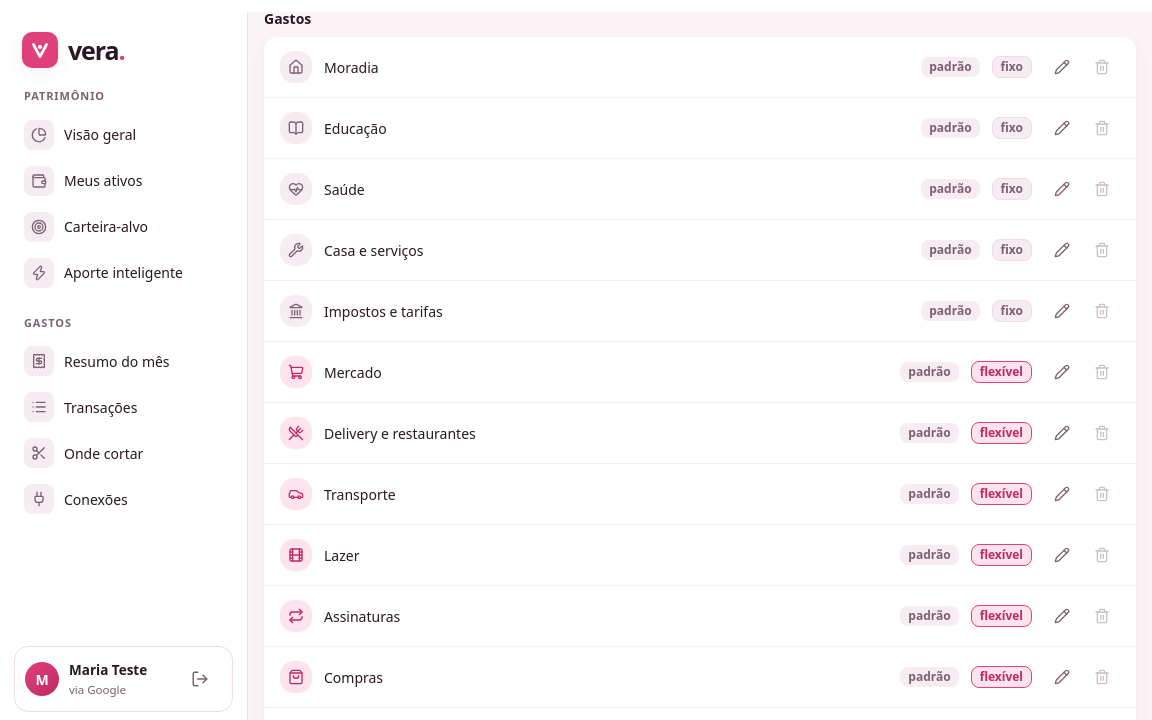
RulesPage: categorias › nome vazio não é enviado
The image size is (1152, 720).
(page scrolled)
Click the button named "Renomear Mercado" at (1062, 372), box [1044,354,1080,390]
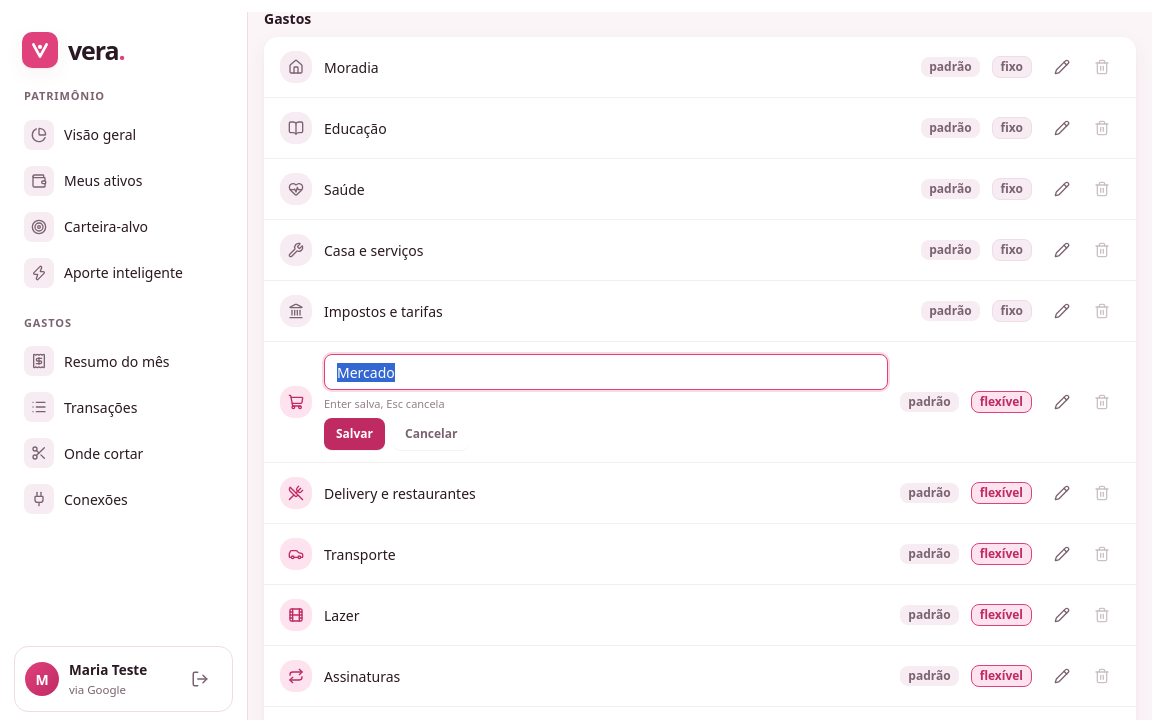
Clear the field named "Nome da categoria Mercado" at (606, 372), box [324,354,888,390]
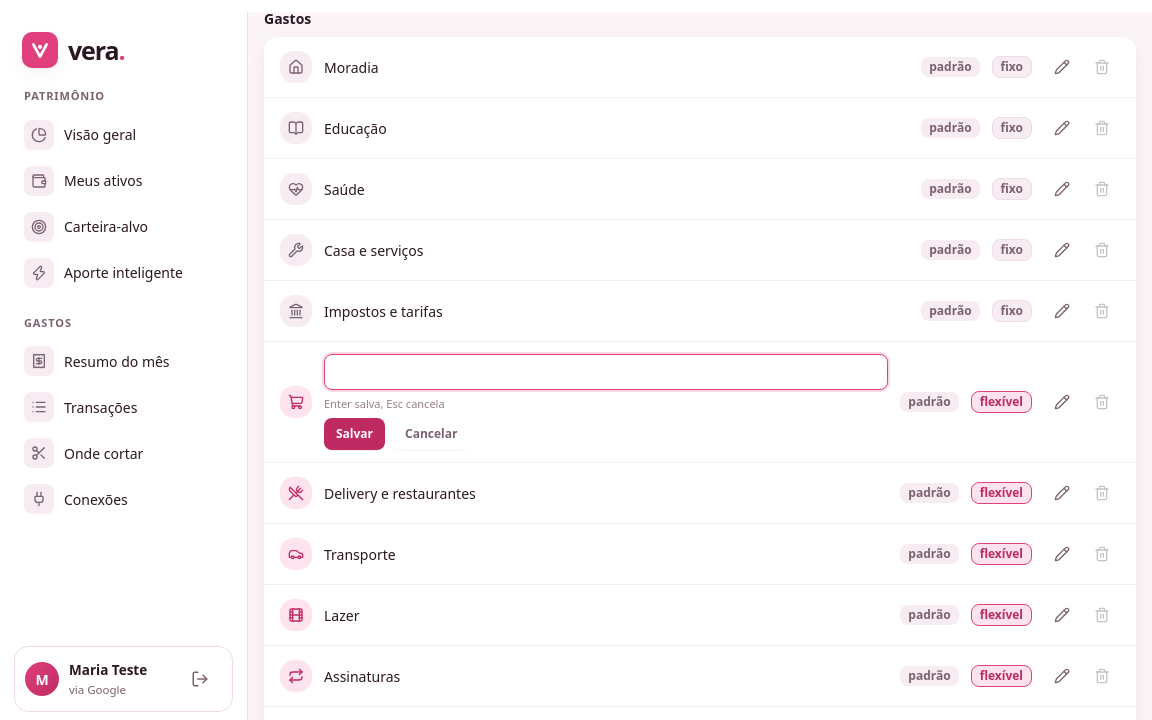
Click the button "Salvar" at (354, 434), box [324,418,385,450]
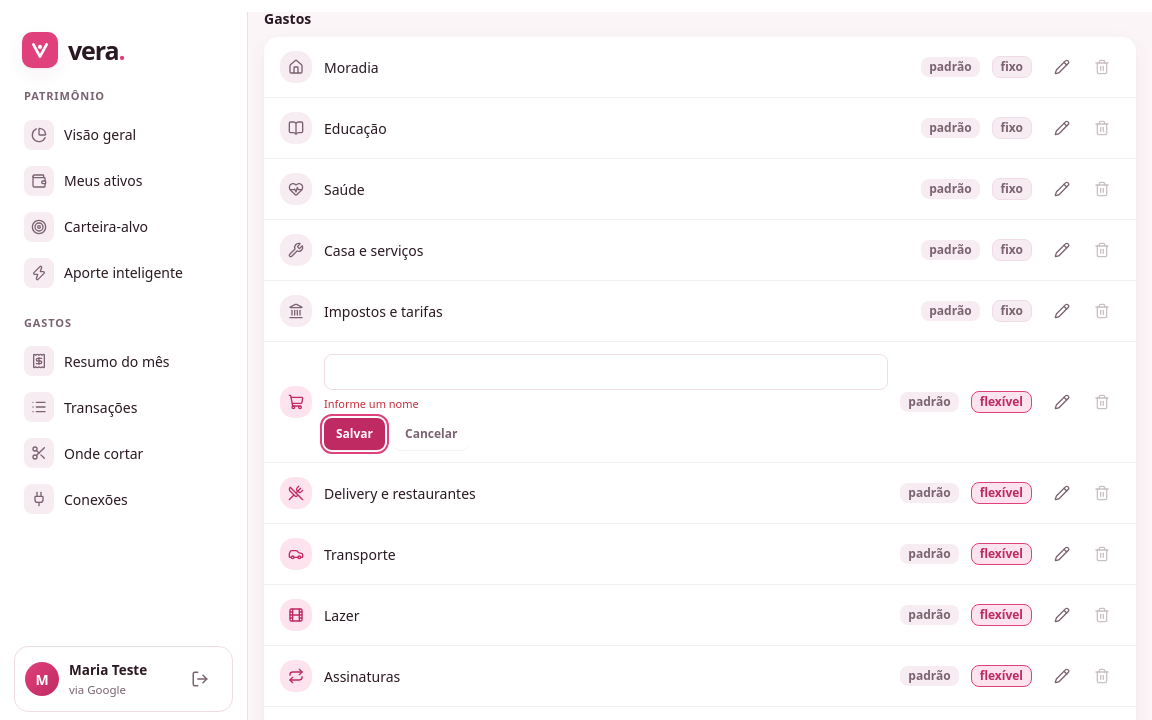
Result: the text "Informe um nome" is shown at [324,396,419,411]
